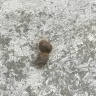Dog: (34, 40, 52, 66)
